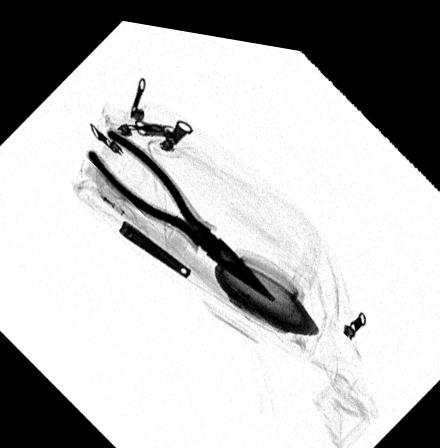Pliers: (85, 121, 278, 292)
